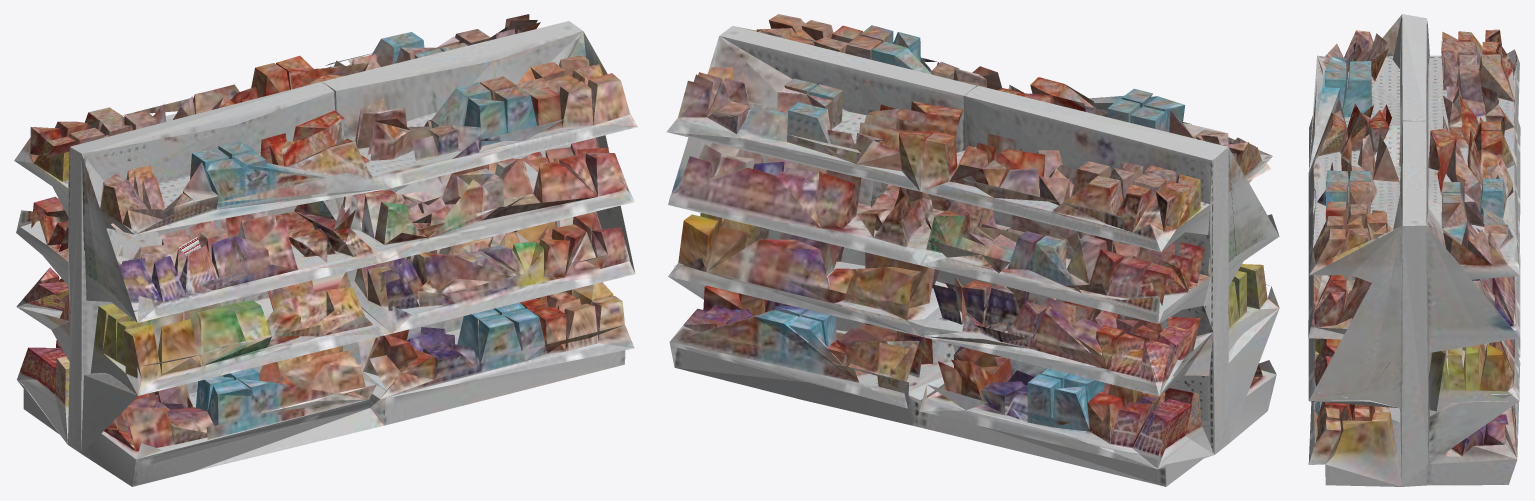
Rendered from gondola.glb.
3 renders of one model, left to right at view 1: azimuth 30°, elevation 25°; view 2: azimuth 150°, elevation 25°; view 3: azimuth 270°, elevation 25°, orthographic. The views are drawn at different scales.
Size of the model in its own units: 1.9 by 1.09 by 0.8012.
1 material, 1 textured.
